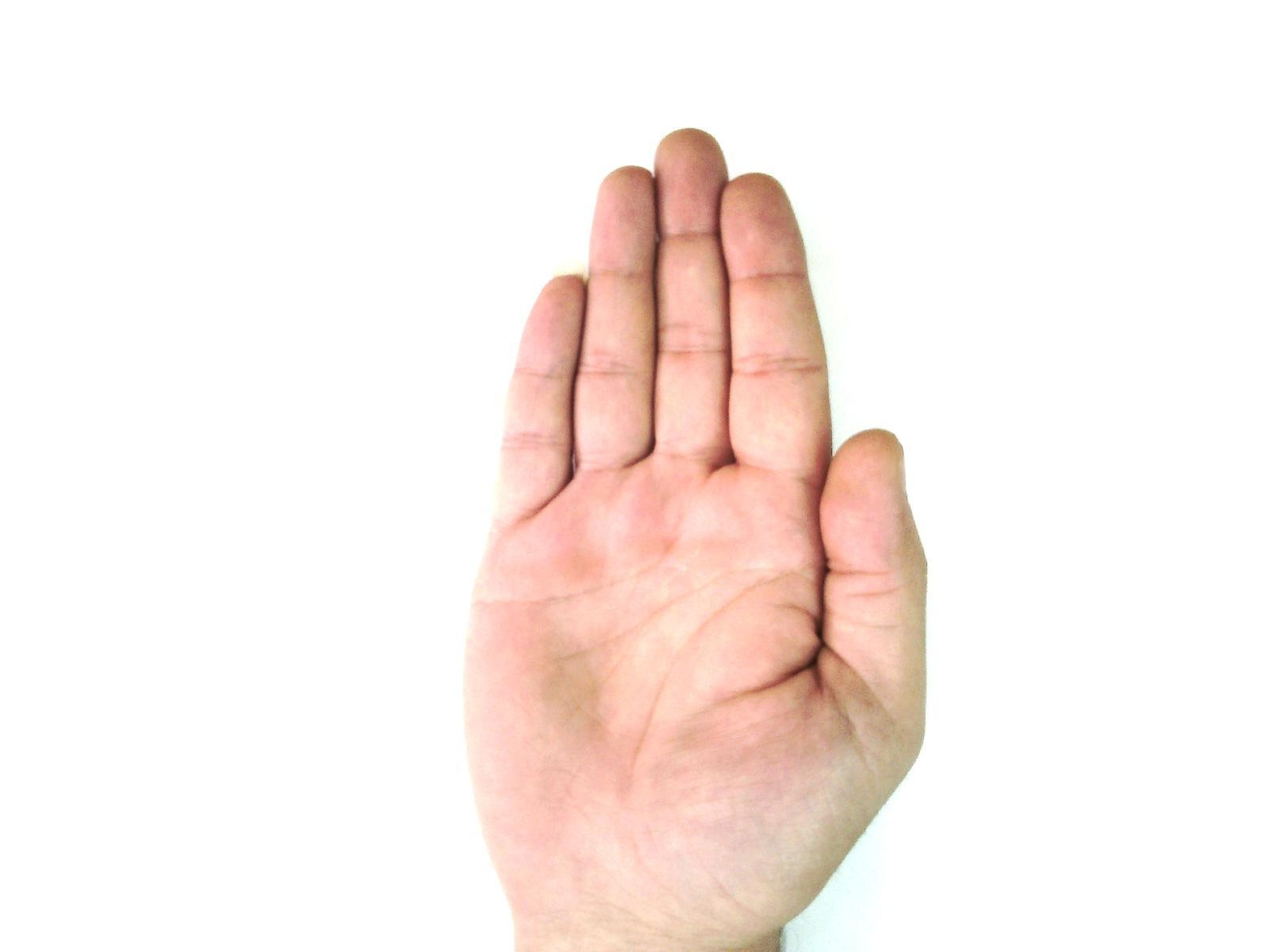open_palm: (459, 127, 932, 950)
